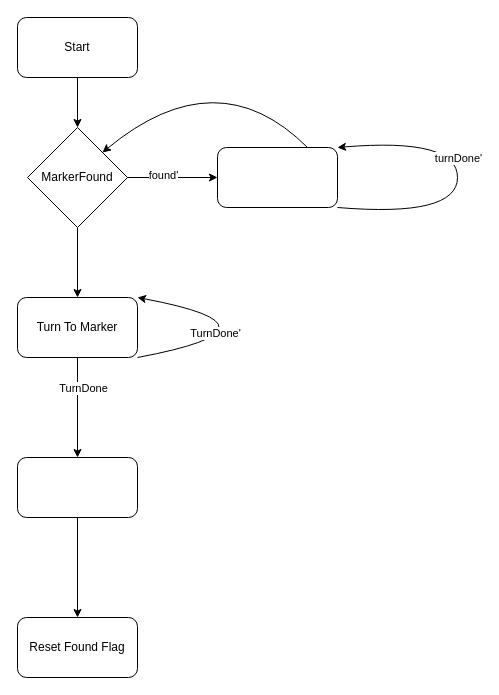
This 499x695 diagram has some shape labels left out. Each missing label, with the centre of its shape:
Drive To Marker: (x=77, y=487)
TurnToFind: (x=277, y=177)
